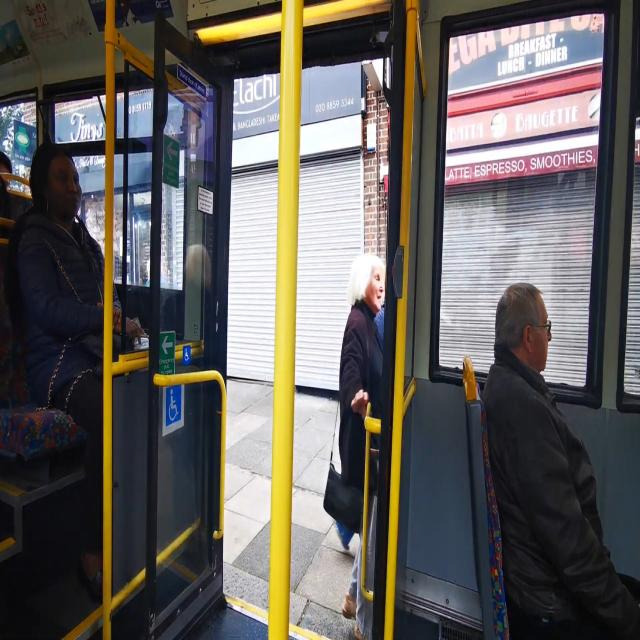bus-door: (160, 22, 396, 640)
